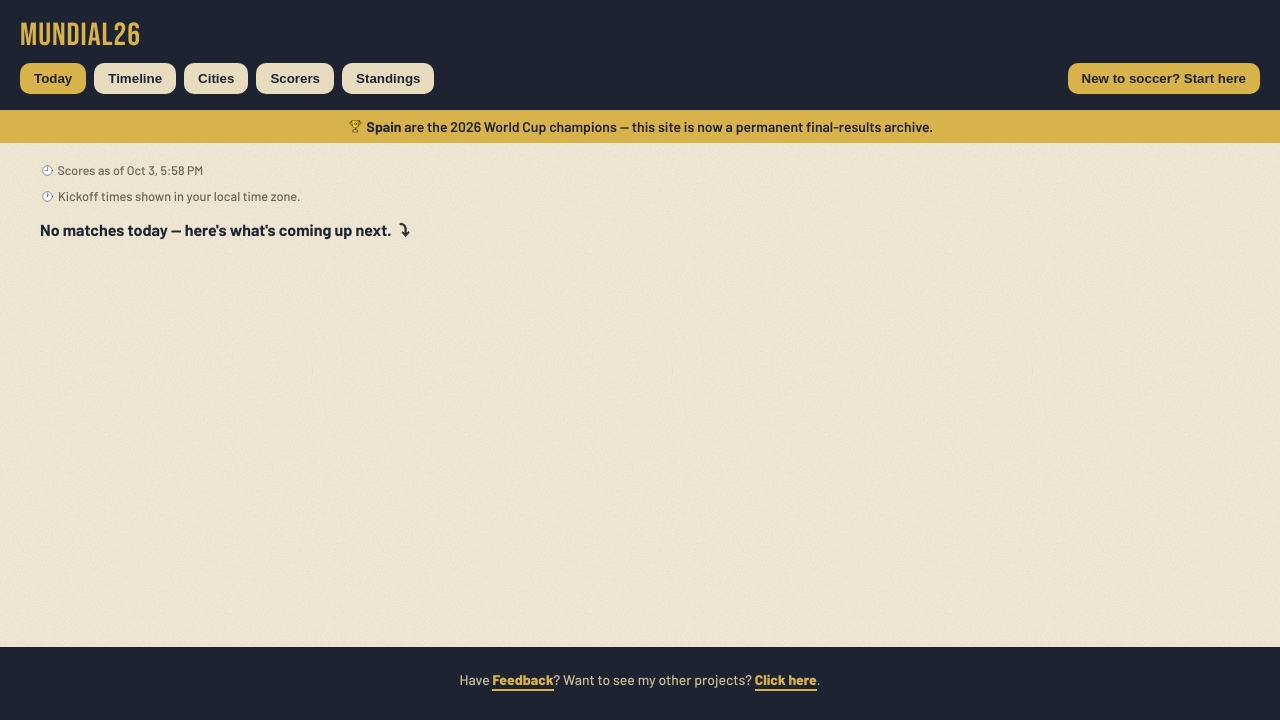
Test: App › does not show the explainer until the button is clicked, then opens it
Click the button "New to soccer? Start here" at (1164, 78), box top-left (1068, 63), bottom-right (1260, 94)
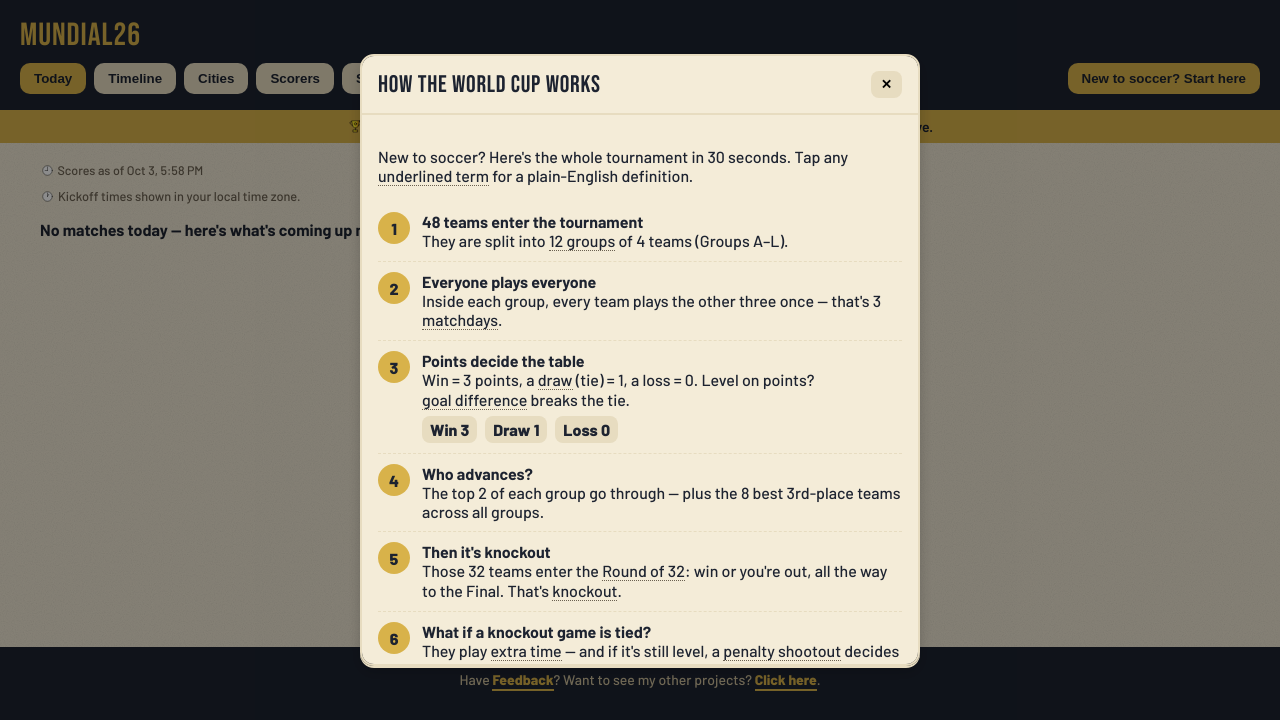
Check: the dialog "How the World Cup works" is shown, box top-left (360, 54), bottom-right (920, 666)
